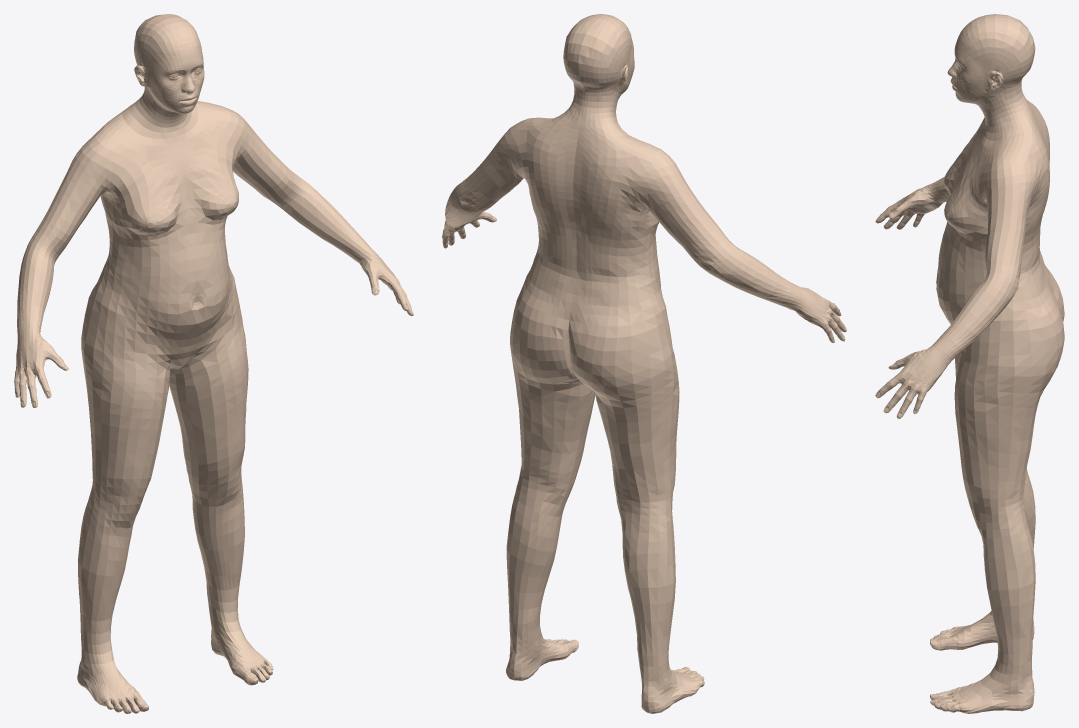
Rendered from female-adult-max-toned.glb.
3 views of the same model, side by side, from view 1: azimuth 30°, elevation 25°; view 2: azimuth 150°, elevation 25°; view 3: azimuth 270°, elevation 25° (orthographic).
Parts seen in each view (by area): view 1: world; view 2: world; view 3: world.
Boxes of the visible parts, x1,y1,x2,y2 form: world: (14,14,413,713); world: (442,14,846,713); world: (875,14,1064,713).
Bounding box in the file's own units: 1.12 × 1.81 × 0.4709.
